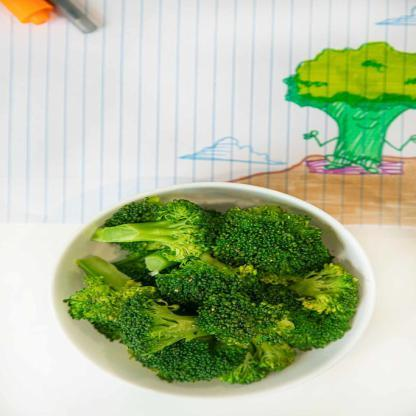broccoli: (59, 195, 359, 383)
